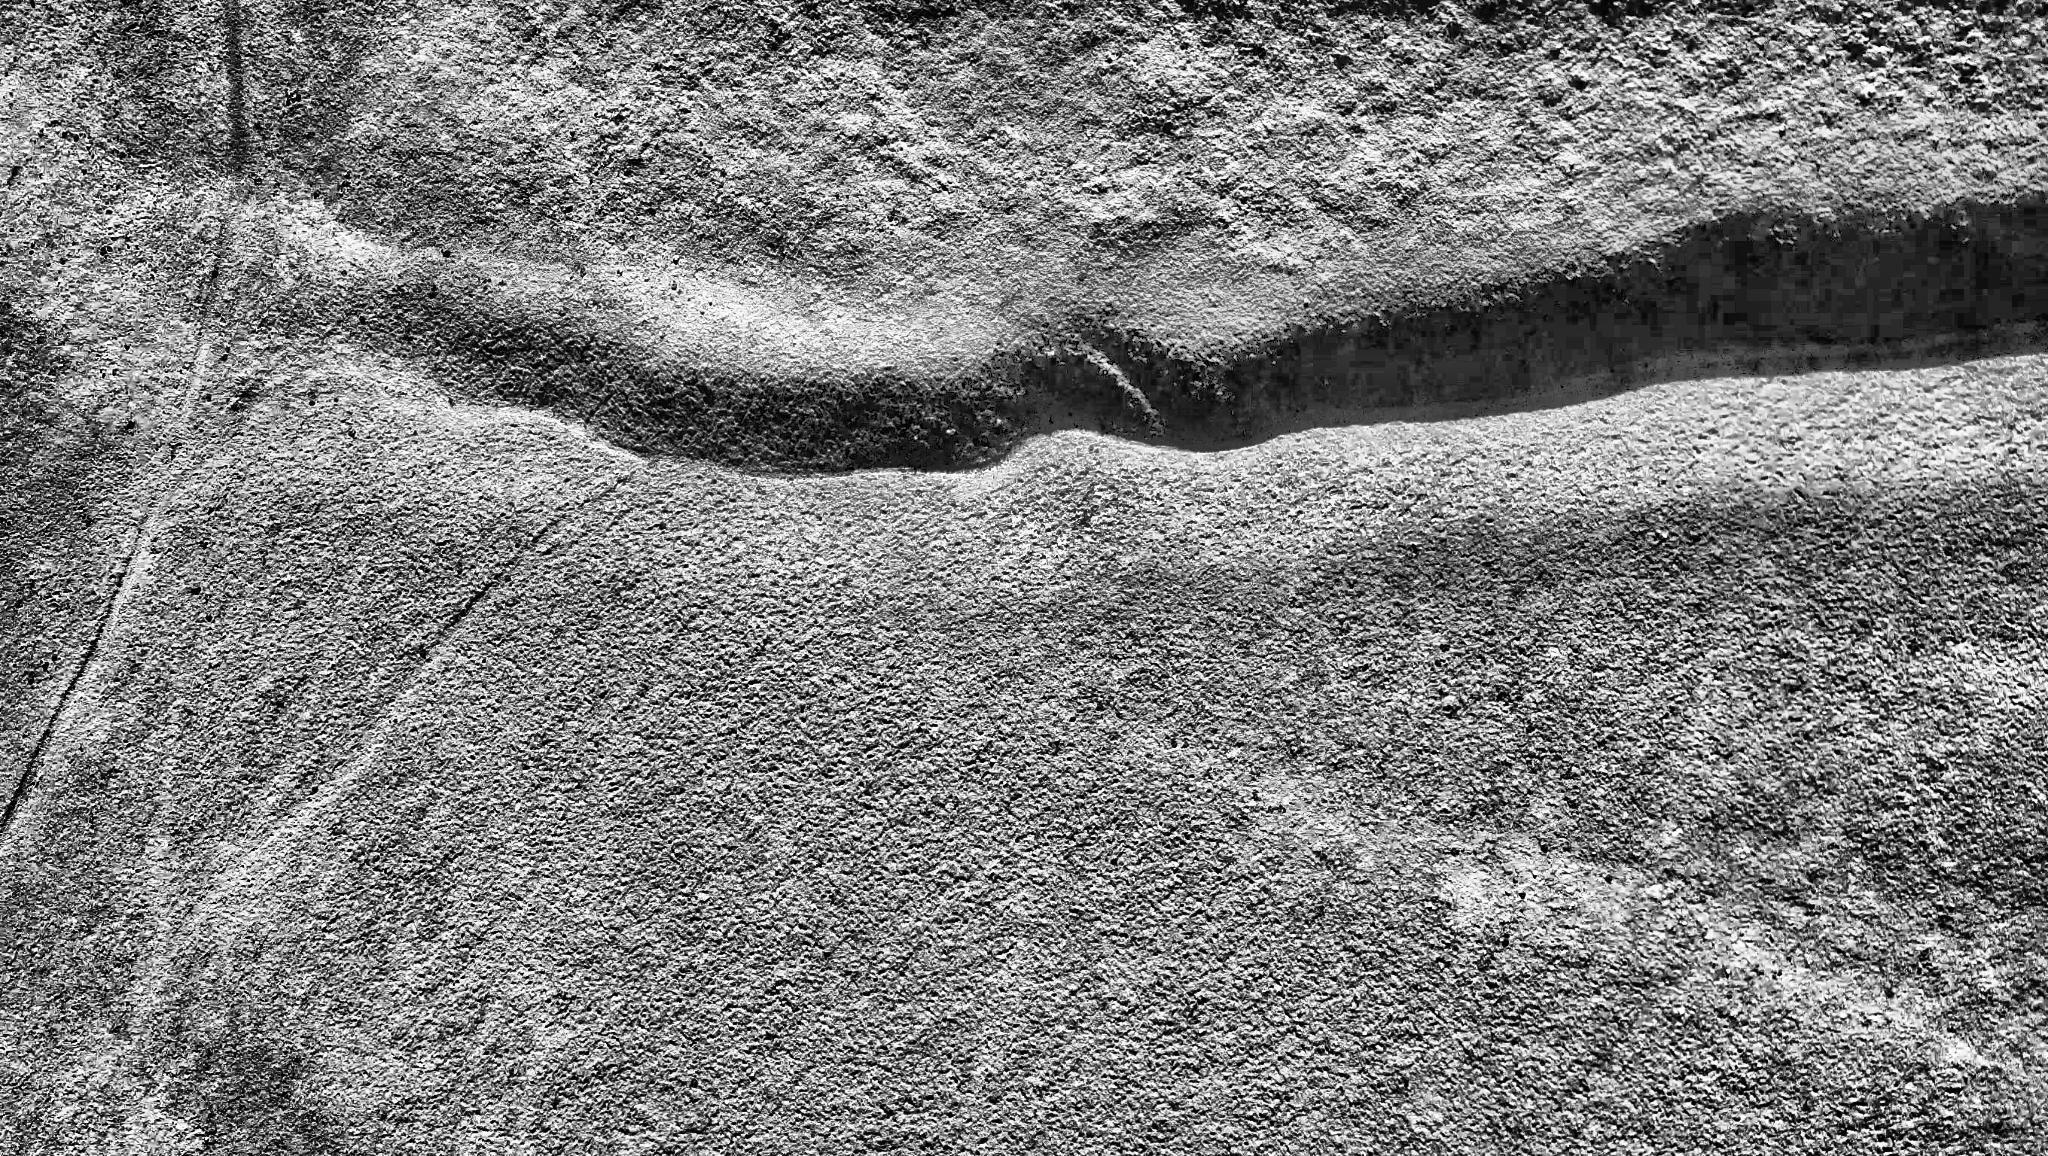herd: (1646, 707, 1698, 976)
